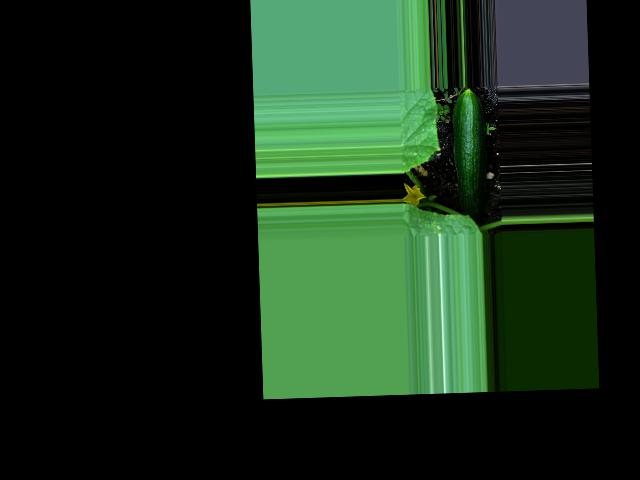cucumber: (451, 87, 489, 222)
